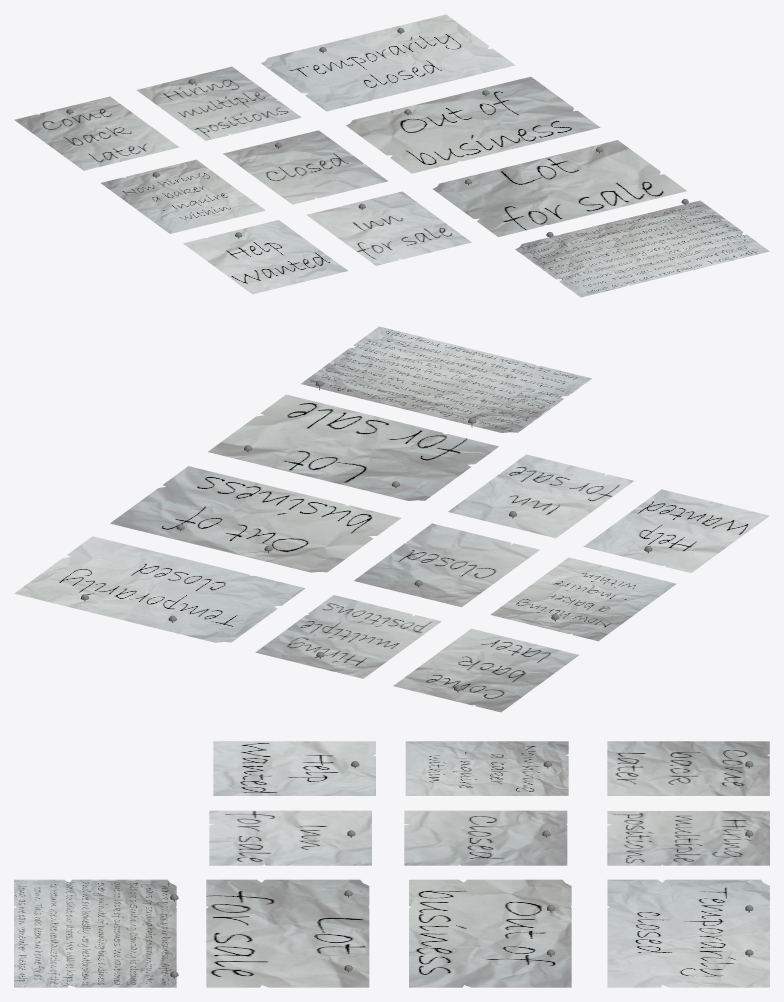
File: signs.fbx
3 views of the same model, one above another, from view 1: azimuth 30°, elevation 25°; view 2: azimuth 150°, elevation 25°; view 3: azimuth 270°, elevation 25° (orthographic). The views are drawn at different scales.
Parts seen in each view (by area): view 1: black smith note, temporarily closed, out of business, lot for sale, come backl later, hiring baker, help wanted, closed, hiring multiple positions, inn for sale; view 2: black smith note, temporarily closed, lot for sale, out of business, come backl later, hiring baker, inn for sale, closed, help wanted, hiring multiple positions; view 3: lot for sale, black smith note, temporarily closed, out of business, closed, inn for sale, hiring baker, come backl later, hiring multiple positions, help wanted.
Boxes of the visible parts, <box> form: black smith note: <box>515,199,769,297</box>; temporarily closed: <box>261,14,515,111</box>; out of business: <box>346,76,600,173</box>; lot for sale: <box>433,140,686,236</box>; come backl later: <box>14,96,179,170</box>; hiring baker: <box>101,159,265,233</box>; help wanted: <box>183,220,347,294</box>; closed: <box>223,130,387,204</box>; hiring multiple positions: <box>136,66,301,140</box>; inn for sale: <box>307,191,471,265</box>; black smith note: <box>301,326,591,432</box>; temporarily closed: <box>14,536,305,642</box>; lot for sale: <box>208,394,498,500</box>; out of business: <box>110,466,401,572</box>; come backl later: <box>393,628,578,712</box>; hiring baker: <box>490,557,676,641</box>; inn for sale: <box>448,454,634,538</box>; closed: <box>354,523,539,607</box>; help wanted: <box>583,489,769,573</box>; hiring multiple positions: <box>255,595,441,678</box>; lot for sale: <box>206,879,369,987</box>; black smith note: <box>14,879,178,987</box>; temporarily closed: <box>607,879,769,987</box>; out of business: <box>409,879,571,987</box>; closed: <box>404,810,567,865</box>; inn for sale: <box>209,810,371,865</box>; hiring baker: <box>405,741,568,795</box>; come backl later: <box>607,741,769,795</box>; hiring multiple positions: <box>607,811,769,865</box>; help wanted: <box>213,741,375,795</box>.
Bounding box in the file's own units: 179 × 3.27 × 232.
